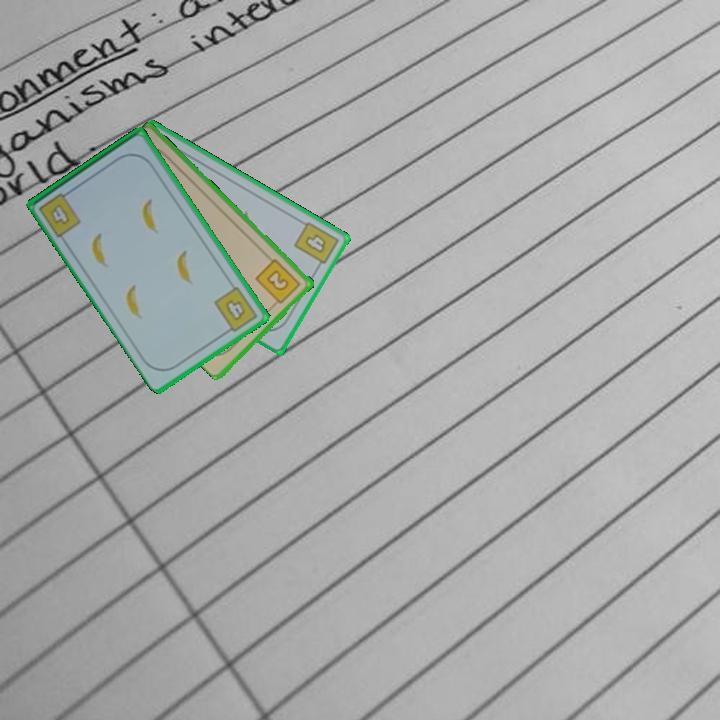2b: (252, 255, 304, 309)
4b: (290, 218, 342, 273), (210, 282, 261, 337), (35, 186, 84, 240)
